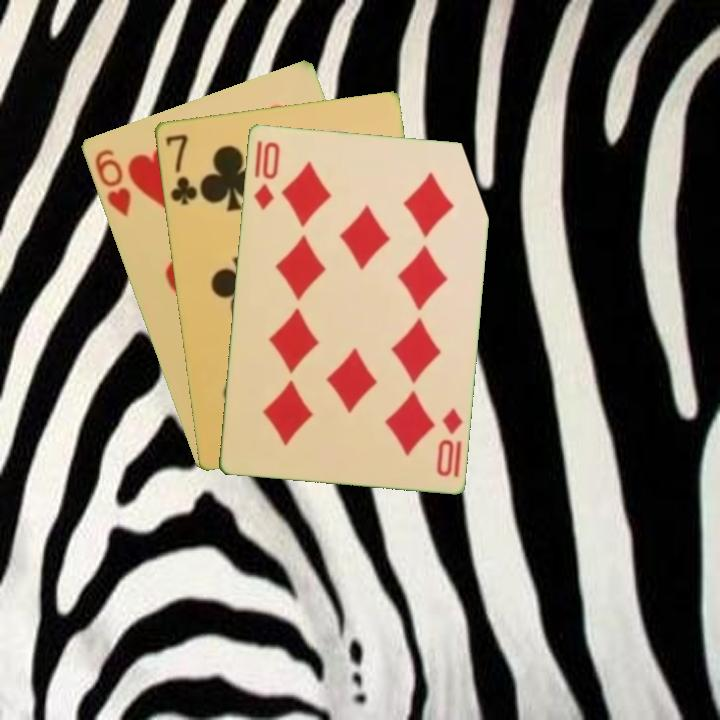10d: (432, 404, 465, 480), (250, 137, 283, 212)
6h: (90, 145, 134, 220)
7c: (161, 130, 200, 207)
